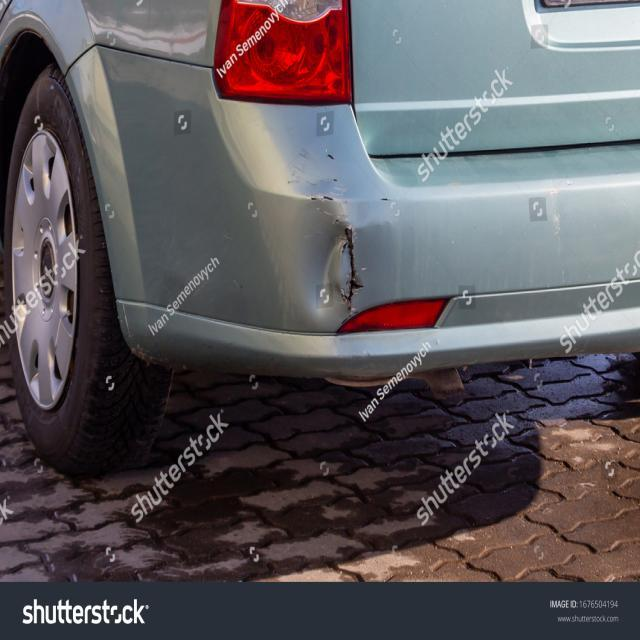Dent: (286, 191, 375, 328)
